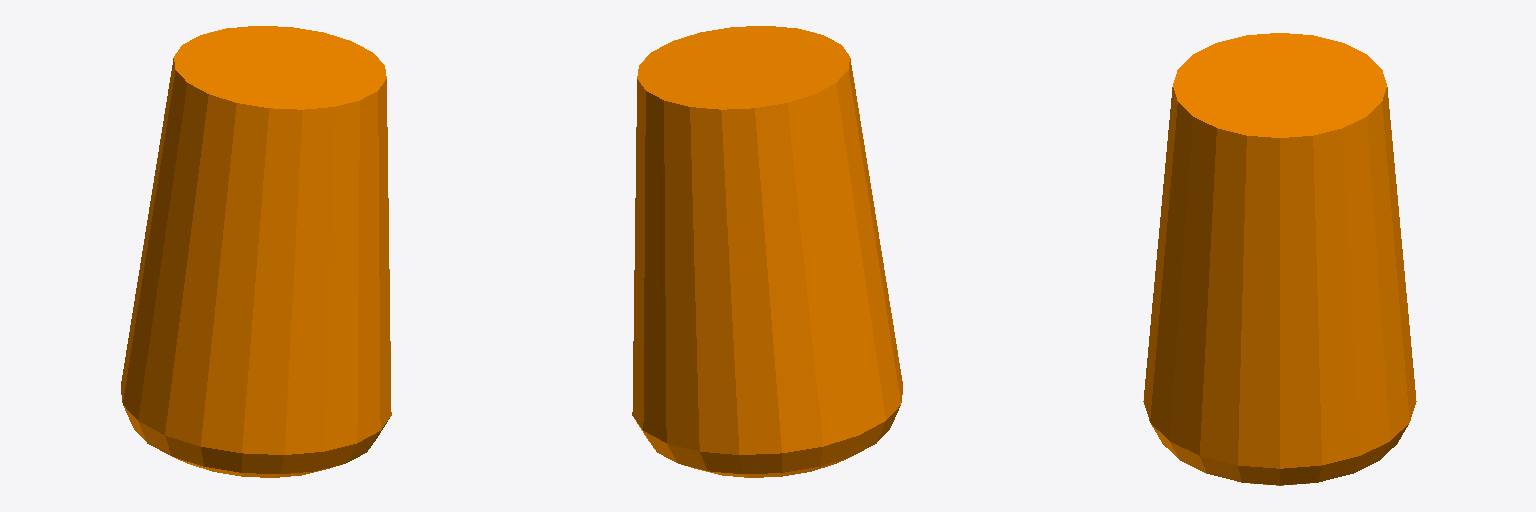
Rendered from player_pants_right.obj.
The picture shows the model from 3 angles: view 1: azimuth 30°, elevation 25°; view 2: azimuth 150°, elevation 25°; view 3: azimuth 270°, elevation 25°; orthographic projection.
Parts seen in each view (by area): view 1: pants_right; view 2: pants_right; view 3: pants_right.
Boxes of the visible parts, x1=… form: pants_right: x1=121, y1=26, x2=391, y2=477; pants_right: x1=632, y1=26, x2=902, y2=477; pants_right: x1=1143, y1=33, x2=1416, y2=485.
Bounding box in the file's own units: 0.4702 × 0.7235 × 0.4716.